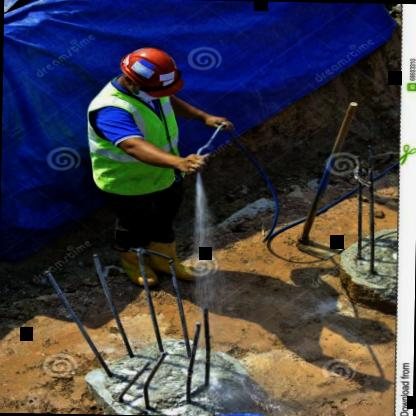helmet: (116, 44, 182, 96)
